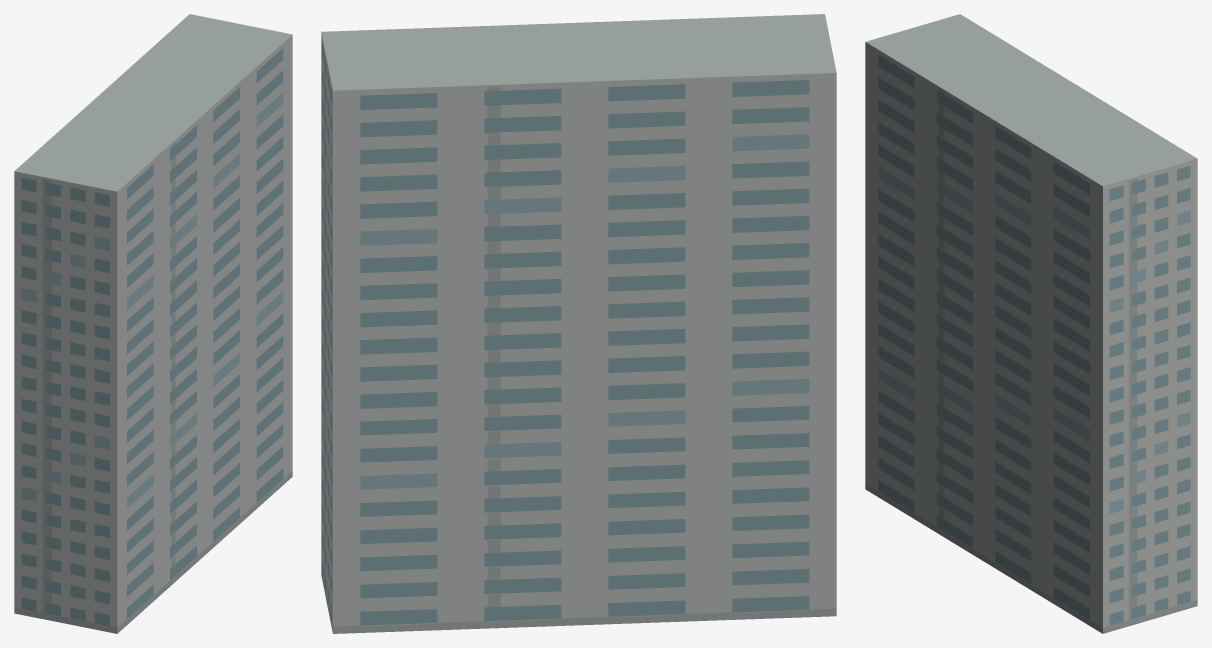
Rendered from residential-42196cc5-583d-4d2d-a7dd-fa011fa6c987.glb.
3 renders of one model, left to right at view 1: azimuth 30°, elevation 25°; view 2: azimuth 150°, elevation 25°; view 3: azimuth 270°, elevation 25°, orthographic. The views are drawn at different scales.
Parts seen in each view (by area): view 1: residential-42196cc5-583d-4d2d-a7dd-fa011fa6c987.tmp; view 2: residential-42196cc5-583d-4d2d-a7dd-fa011fa6c987.tmp; view 3: residential-42196cc5-583d-4d2d-a7dd-fa011fa6c987.tmp.
Boxes of the visible parts, x1,y1,x2,y2 form: residential-42196cc5-583d-4d2d-a7dd-fa011fa6c987.tmp: (14, 14, 292, 633); residential-42196cc5-583d-4d2d-a7dd-fa011fa6c987.tmp: (321, 14, 836, 633); residential-42196cc5-583d-4d2d-a7dd-fa011fa6c987.tmp: (865, 14, 1197, 633).
Size of the model in its own units: 46.26 by 56 by 37.67.
